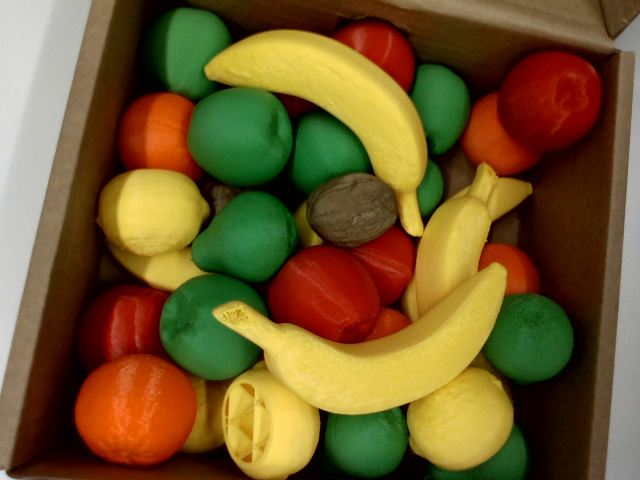banana: (198, 0, 485, 239), (212, 257, 525, 435), (398, 152, 507, 327), (93, 164, 212, 260), (399, 219, 497, 309), (105, 242, 211, 293), (179, 372, 231, 456), (473, 164, 535, 224), (293, 200, 323, 248), (0, 1, 1, 1)
green apple: (183, 175, 312, 307), (154, 267, 270, 385), (476, 283, 587, 397), (128, 0, 237, 106), (270, 99, 372, 199), (188, 88, 292, 186), (396, 52, 486, 158), (325, 407, 408, 477)
lemon: (1, 1, 1, 1)
orange: (67, 343, 204, 475), (443, 88, 545, 194), (113, 85, 214, 181), (469, 229, 551, 311), (363, 303, 413, 356)
red apple: (484, 34, 615, 166), (259, 231, 393, 353), (332, 1, 432, 101), (343, 215, 433, 308), (78, 284, 169, 371)
walnut: (296, 159, 407, 259)
